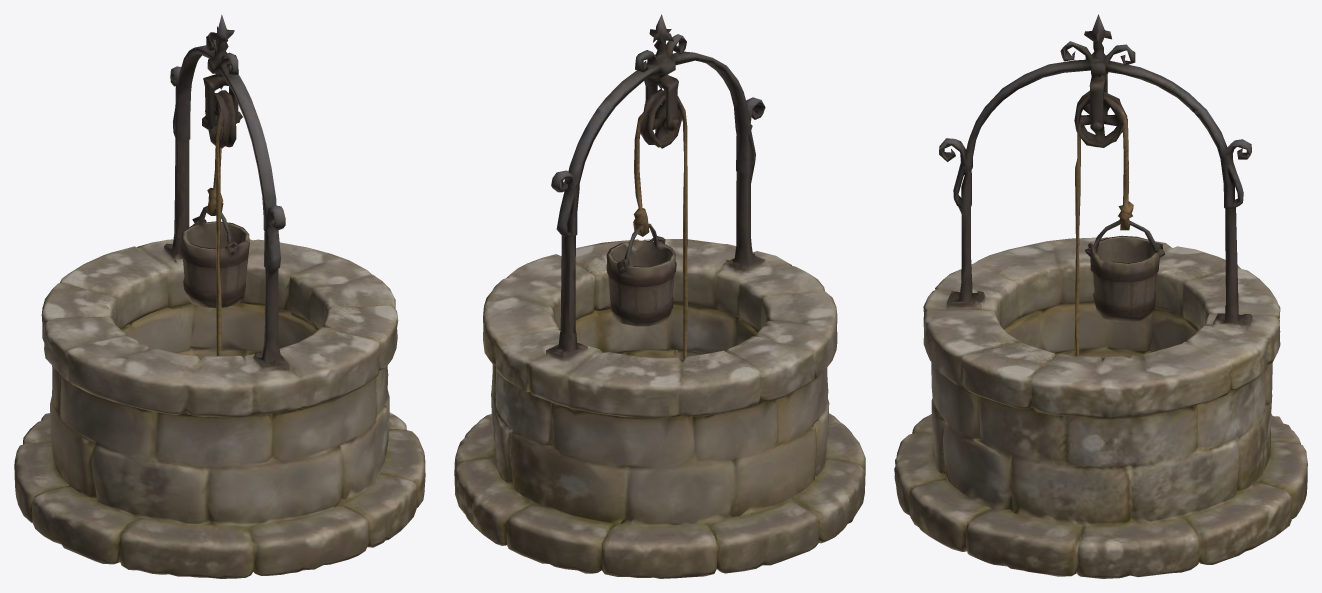
The model's file is prop_well.glb.
The picture shows the model from 3 angles, left to right: view 1: azimuth 30°, elevation 25°; view 2: azimuth 150°, elevation 25°; view 3: azimuth 270°, elevation 25°; orthographic projection.
Visible parts, largest first — view 1: tripo_node_d133a5f1-615c-448c-bf63-22e775479329; view 2: tripo_node_d133a5f1-615c-448c-bf63-22e775479329; view 3: tripo_node_d133a5f1-615c-448c-bf63-22e775479329.
Boxes of the visible parts, left/top/right/bottom form: tripo_node_d133a5f1-615c-448c-bf63-22e775479329: left=14, top=14, right=425, bottom=578; tripo_node_d133a5f1-615c-448c-bf63-22e775479329: left=454, top=14, right=865, bottom=578; tripo_node_d133a5f1-615c-448c-bf63-22e775479329: left=894, top=14, right=1307, bottom=578.
Bounding box in the file's own units: 0.7763 × 1 × 0.7735.
1 material, 1 textured.
